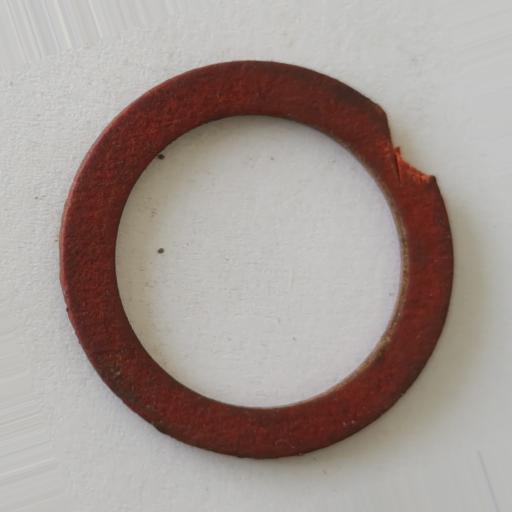defect: (381, 107, 437, 183)
